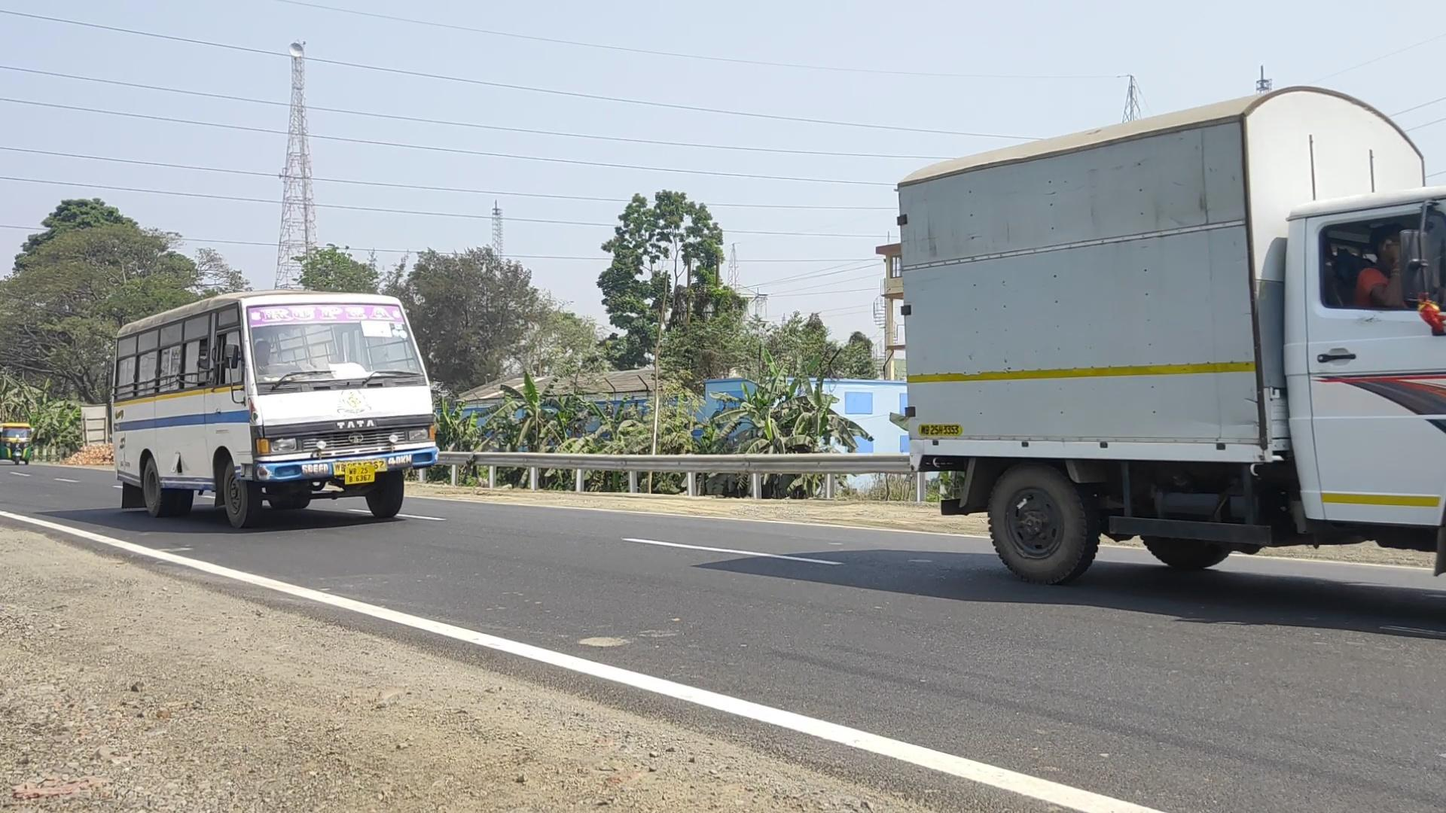Auto: (1, 422, 34, 465)
Bus: (111, 289, 439, 529)
truck: (895, 87, 1446, 605)
